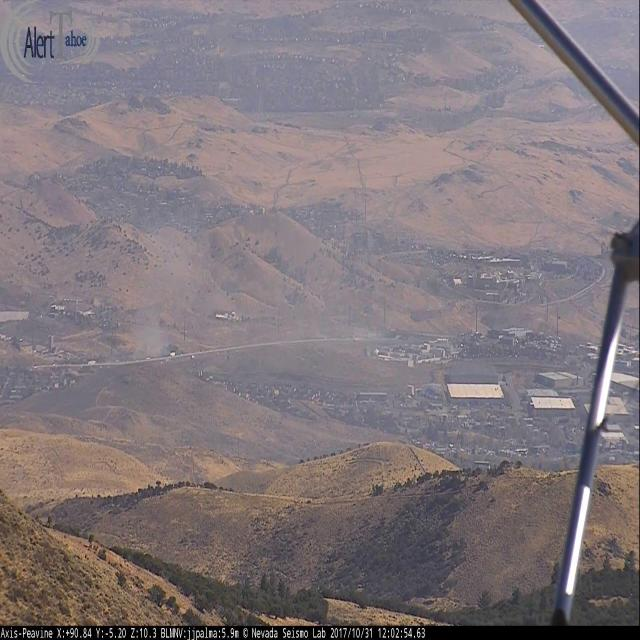smoke: (125, 186, 421, 362)
